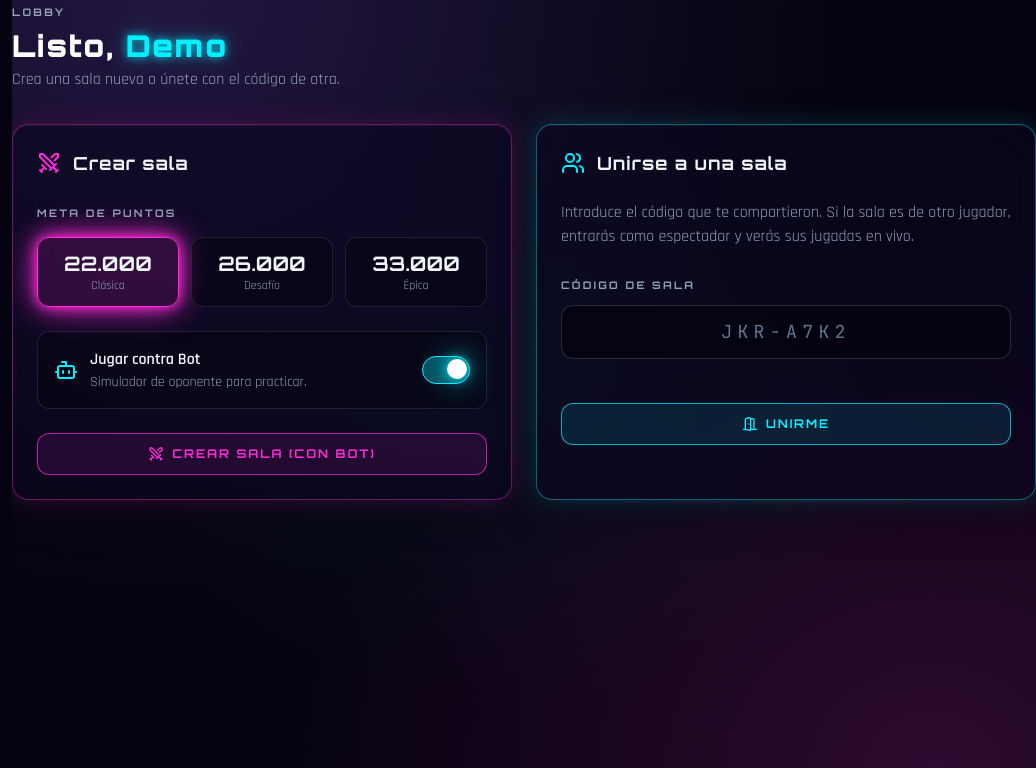
Lobby (F2: salas) › reports a room that does not exist (404)
Type "jkr-zzzz" into the field labelled "Código de sala" at (786, 332), box [561,305,1011,359]
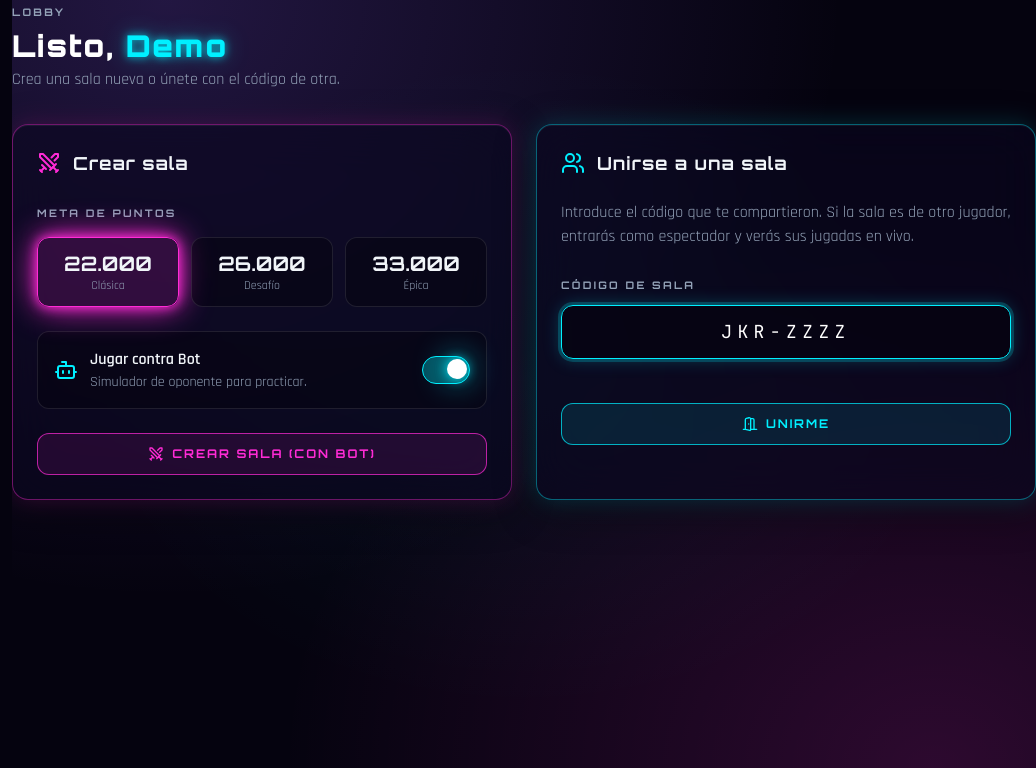
Click the button "Unirme" at (786, 424), box [561,403,1011,445]
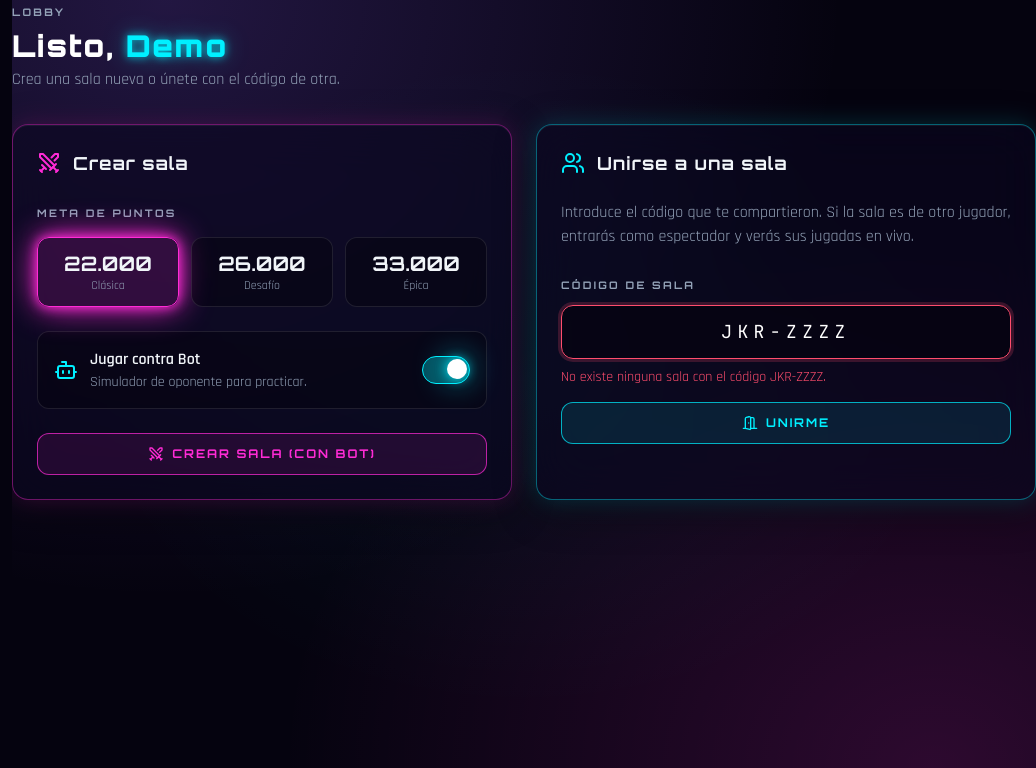
Expected: the message shows "No existe ninguna sala con el código JKR-ZZZZ", [561,368,826,386]
